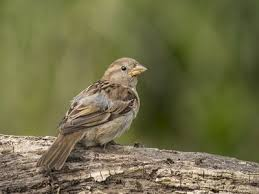hsparrow: (37, 51, 155, 178)
